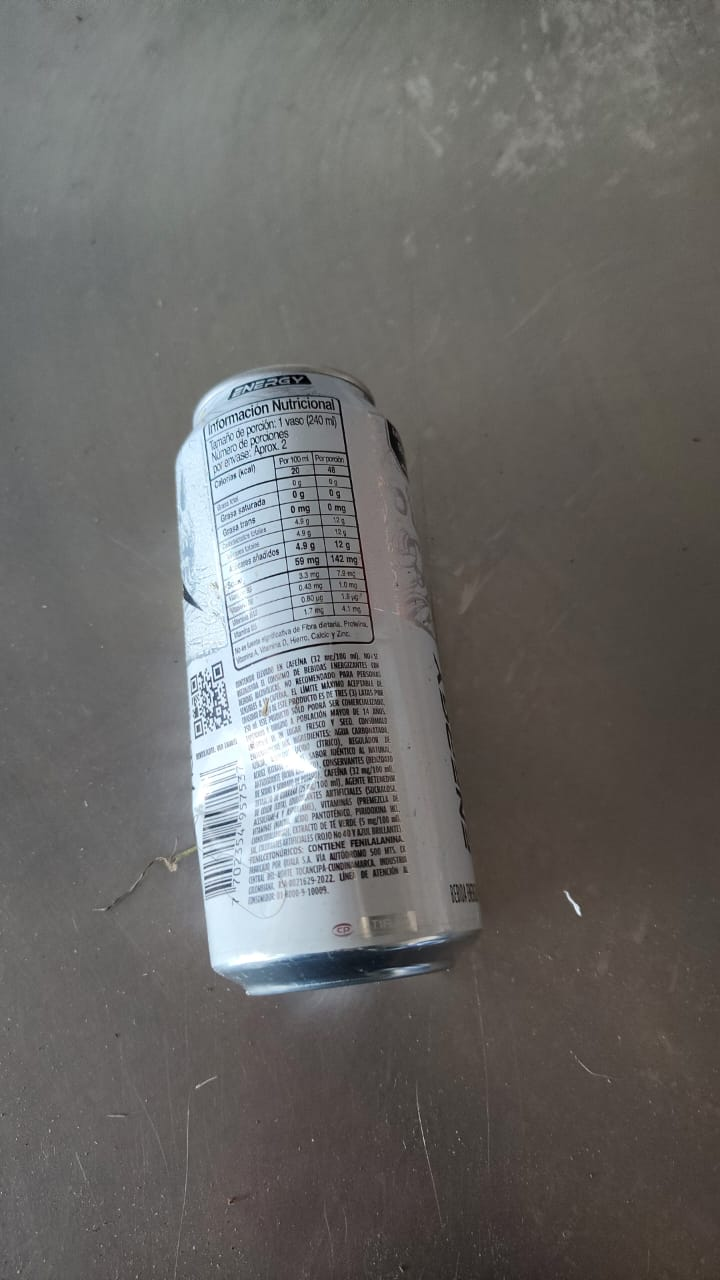Metal: (177, 357, 486, 993)
